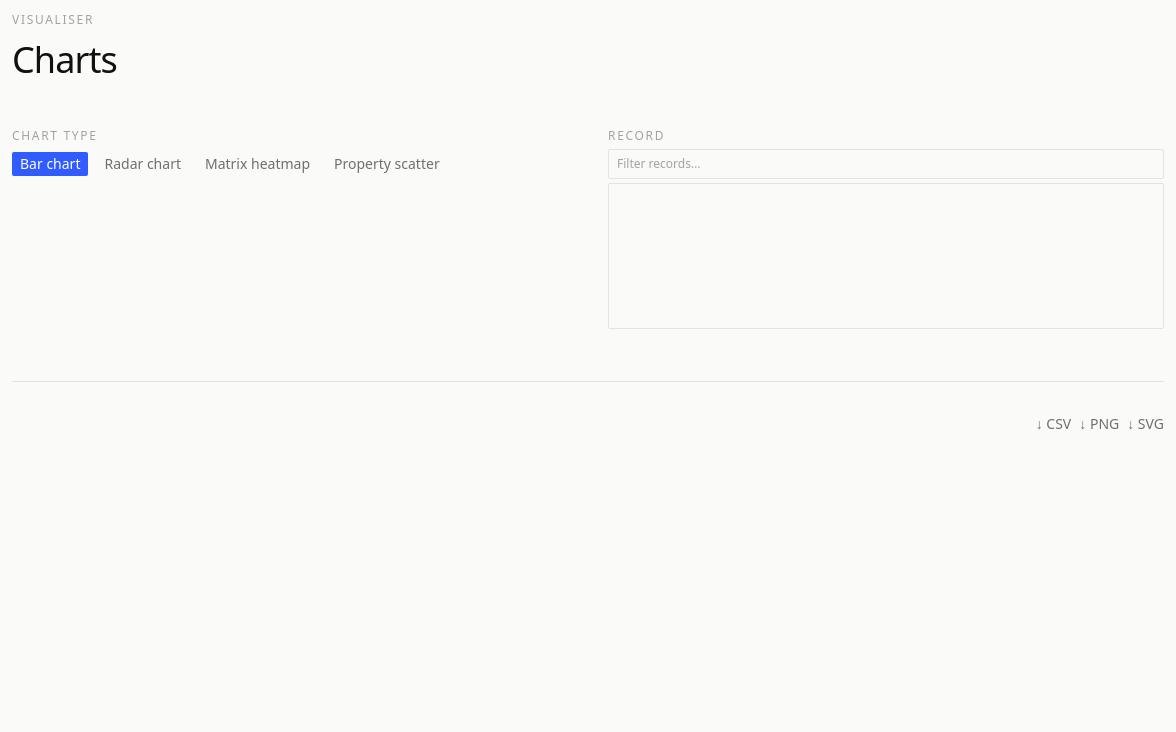
Test: Visualiser — chart type switching › switching to Heatmap shows the DB selector
Click the button "Matrix heatmap". click: (258, 164)
box: [197,152,318,176]
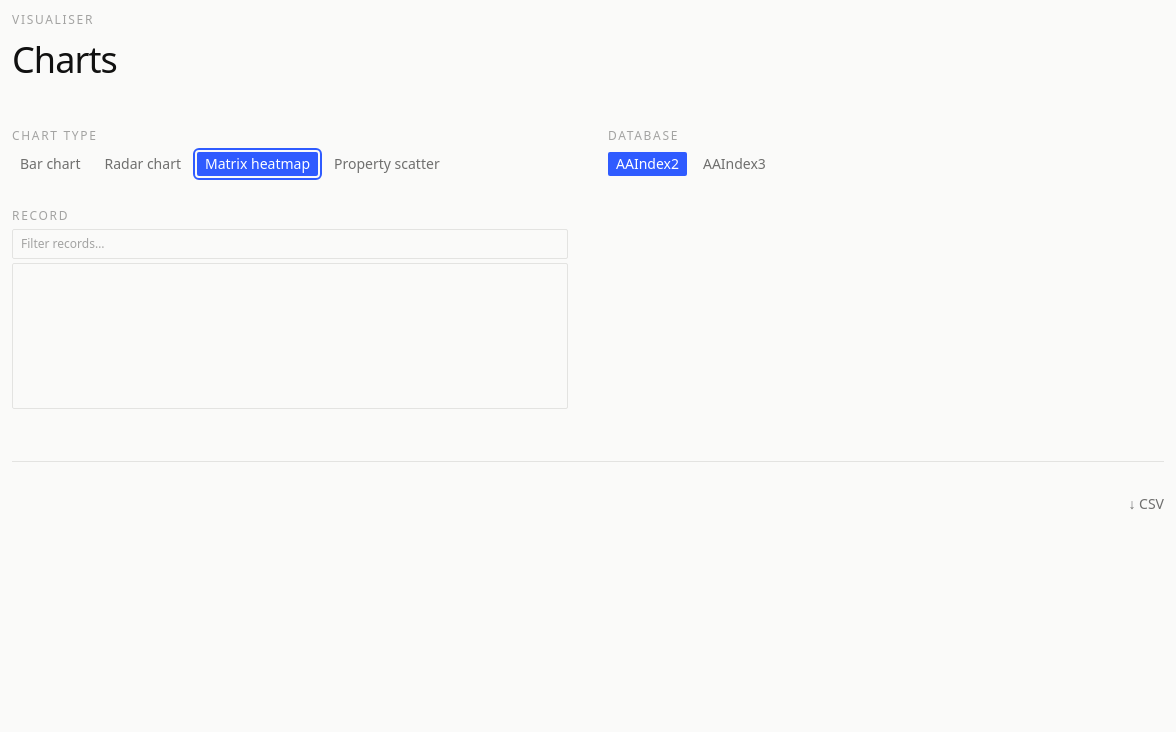
Expected: the button "AAIndex2" is shown, [608,152,687,176]
Expected: the button "AAIndex3" is shown, [695,152,774,176]
